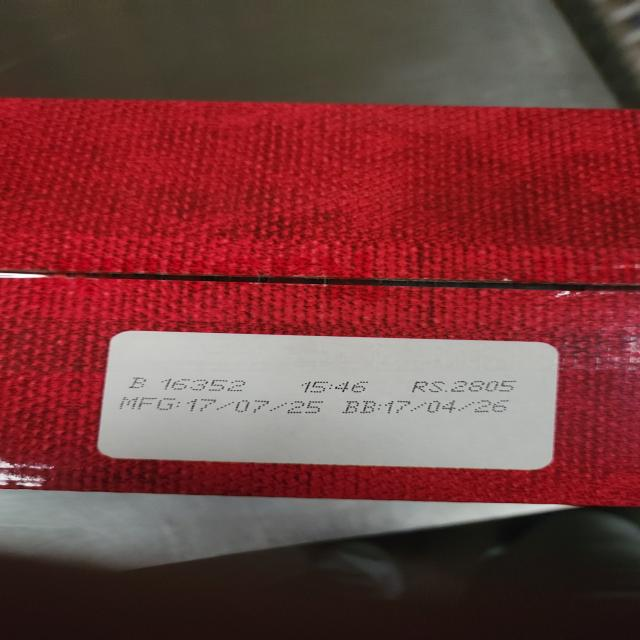BB: (342, 399, 512, 415)
Batch: (121, 375, 250, 392)
MFG: (120, 396, 322, 414)
RS: (411, 380, 521, 393)
TimeStamp: (299, 381, 371, 394)
